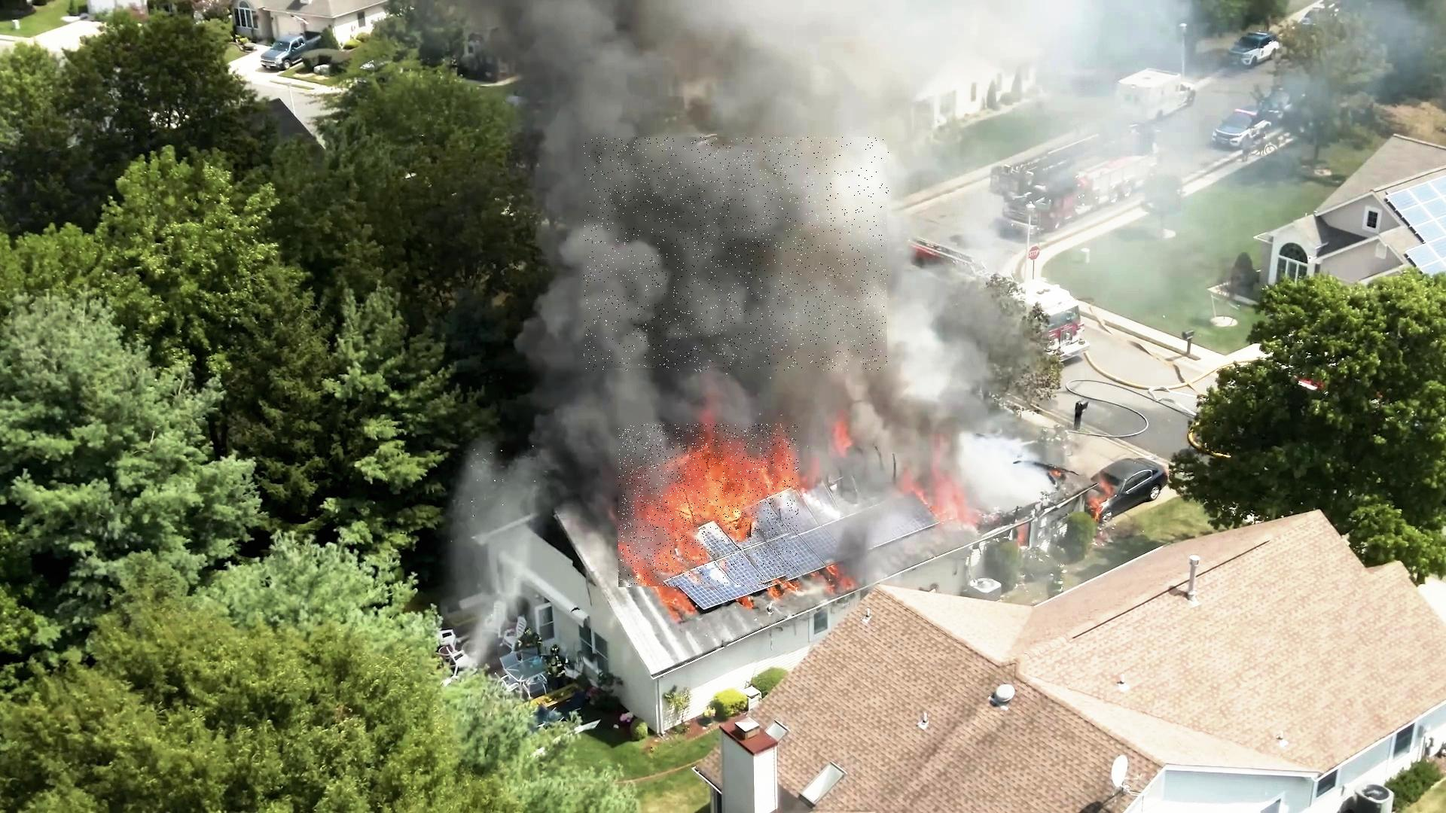fire: (618, 424, 799, 587)
smoke: (584, 138, 889, 371)
